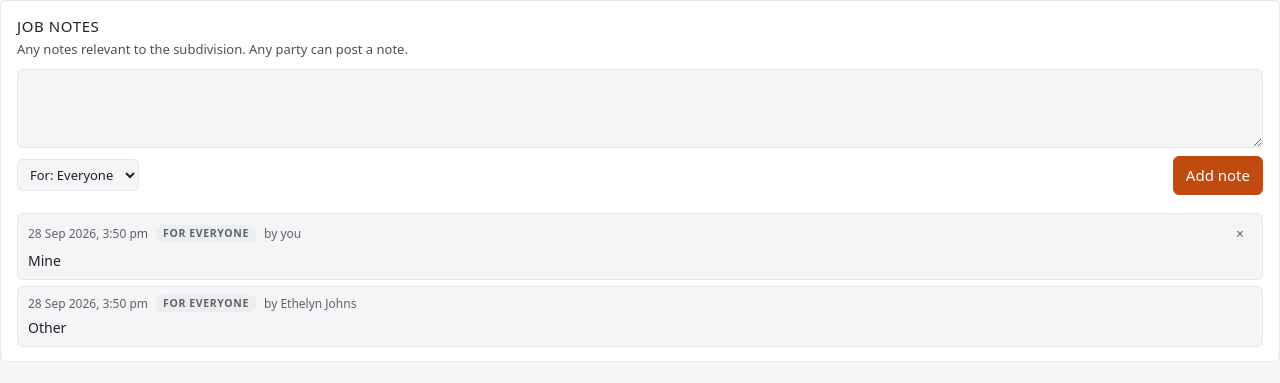
JobNotes › delete › Yes deletes the note
The image size is (1280, 383).
Click the button named "Delete note": (1240, 234) [1228,222,1252,246]
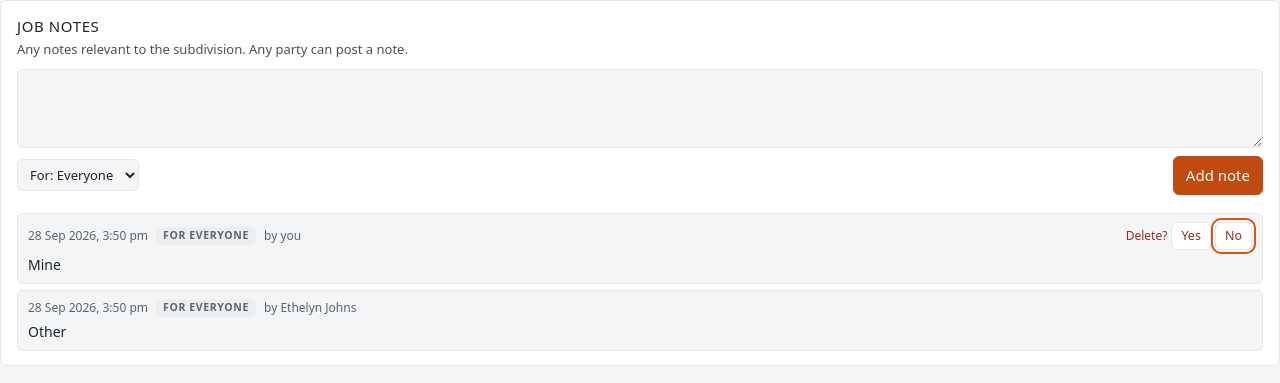
Click the button "Yes": (1191, 236) [1171,222,1211,250]
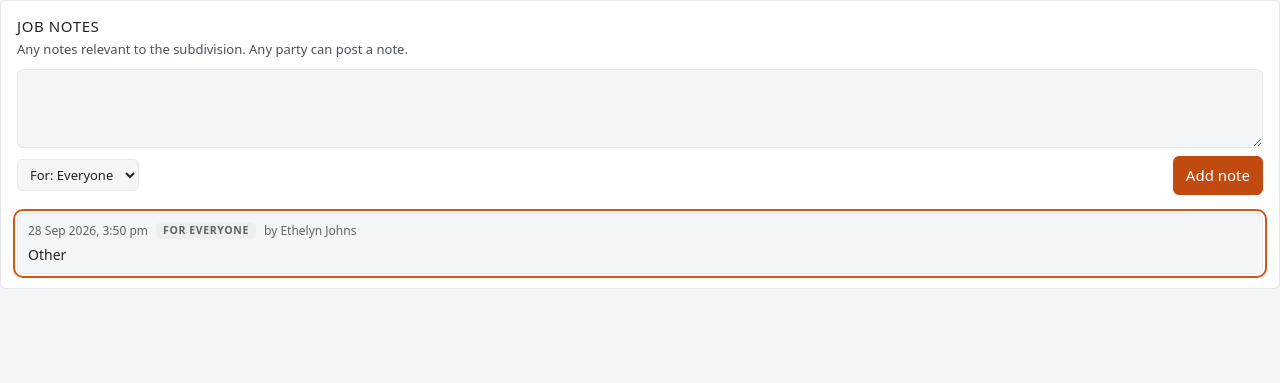
Expected: the text "Other" is shown, [28,244,66,264]
Expected: the text "Mine" is gone
